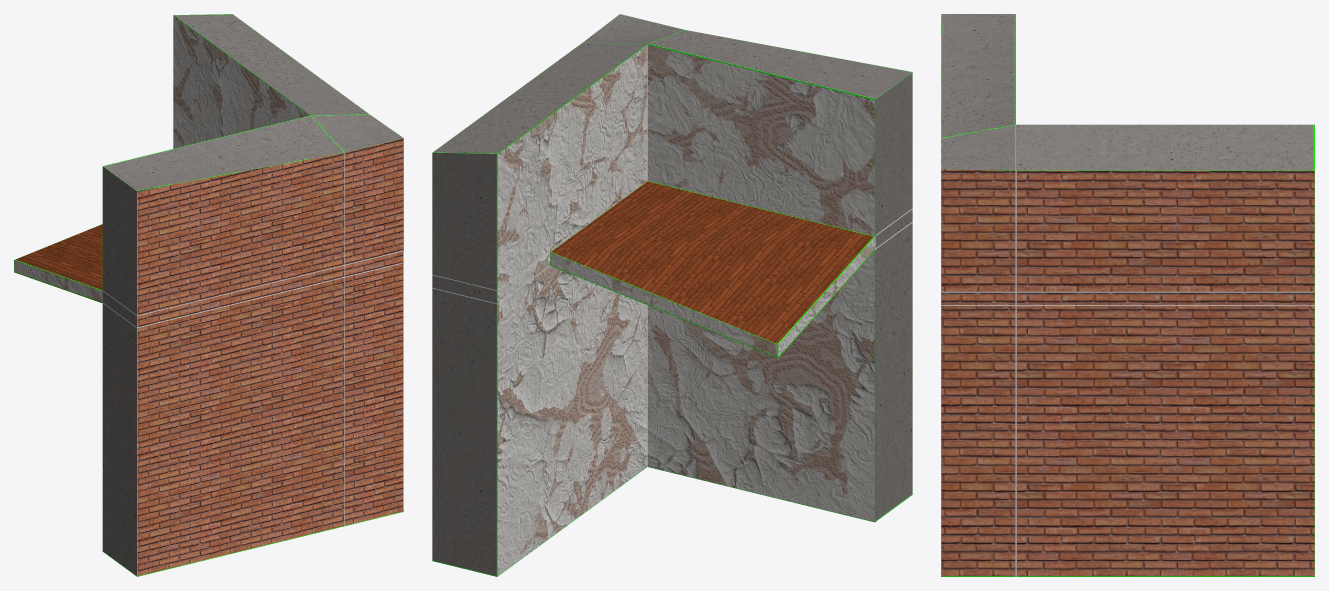
The model's file is House3RuinsPlat.fbx.
3 views of the same model, side by side, from view 1: azimuth 30°, elevation 25°; view 2: azimuth 150°, elevation 25°; view 3: azimuth 270°, elevation 25° (orthographic). The views are drawn at different scales.
Parts seen in each view (by area): view 1: House3RuinsPlat; view 2: House3RuinsPlat; view 3: House3RuinsPlat.
Boxes of the visible parts, x1,y1,x2,y2 form: House3RuinsPlat: [14, 14, 403, 576]; House3RuinsPlat: [432, 14, 912, 576]; House3RuinsPlat: [941, 14, 1314, 576].
Size of the model in its own units: 2.25 by 3.11 by 2.5.
1 material, 1 textured.
